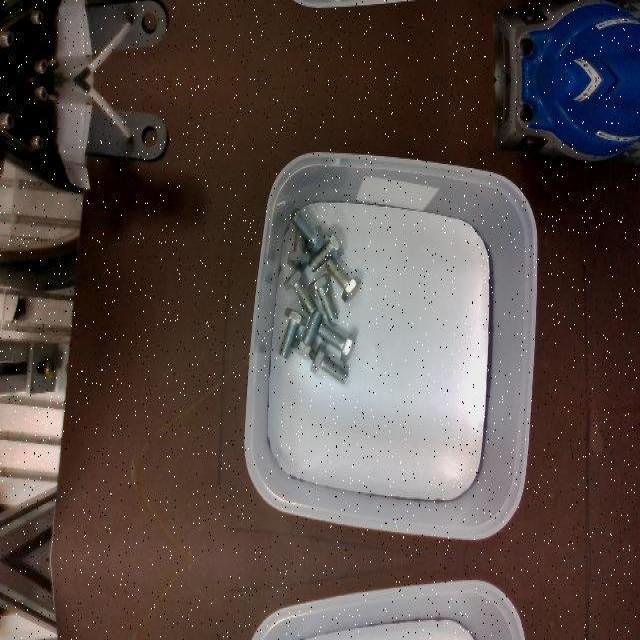screw: (283, 266, 317, 316), (289, 208, 325, 254), (325, 255, 361, 301), (317, 322, 356, 364), (310, 342, 348, 384), (308, 229, 344, 273), (292, 310, 323, 360), (308, 272, 338, 322), (278, 307, 307, 357)
